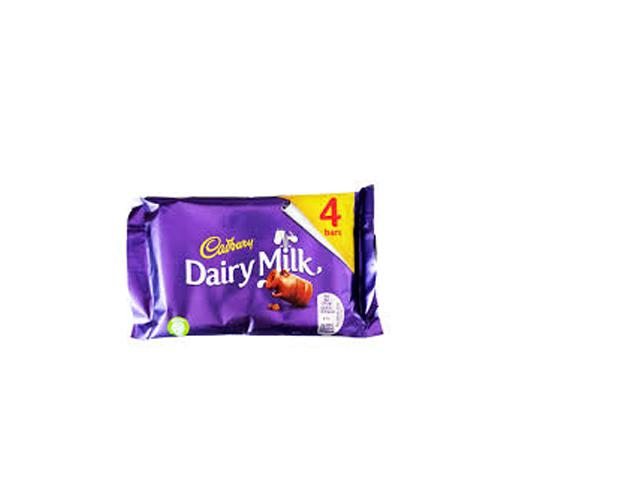chocolate: (116, 186, 410, 358)
